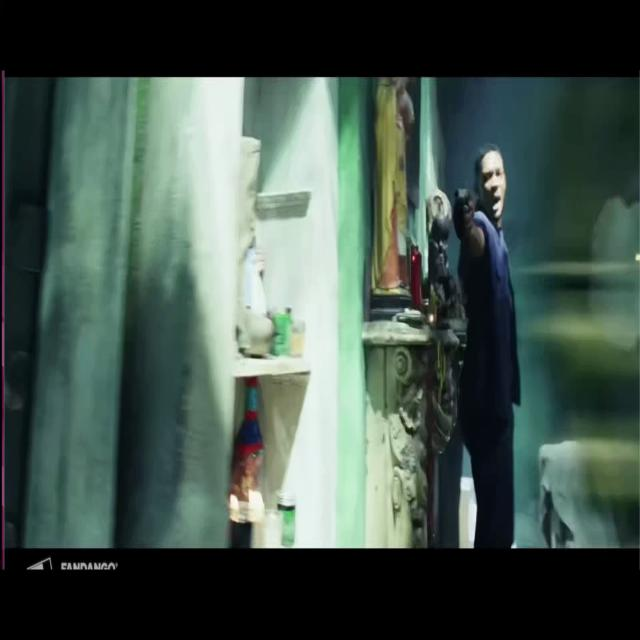weapons: (446, 170, 477, 252)
